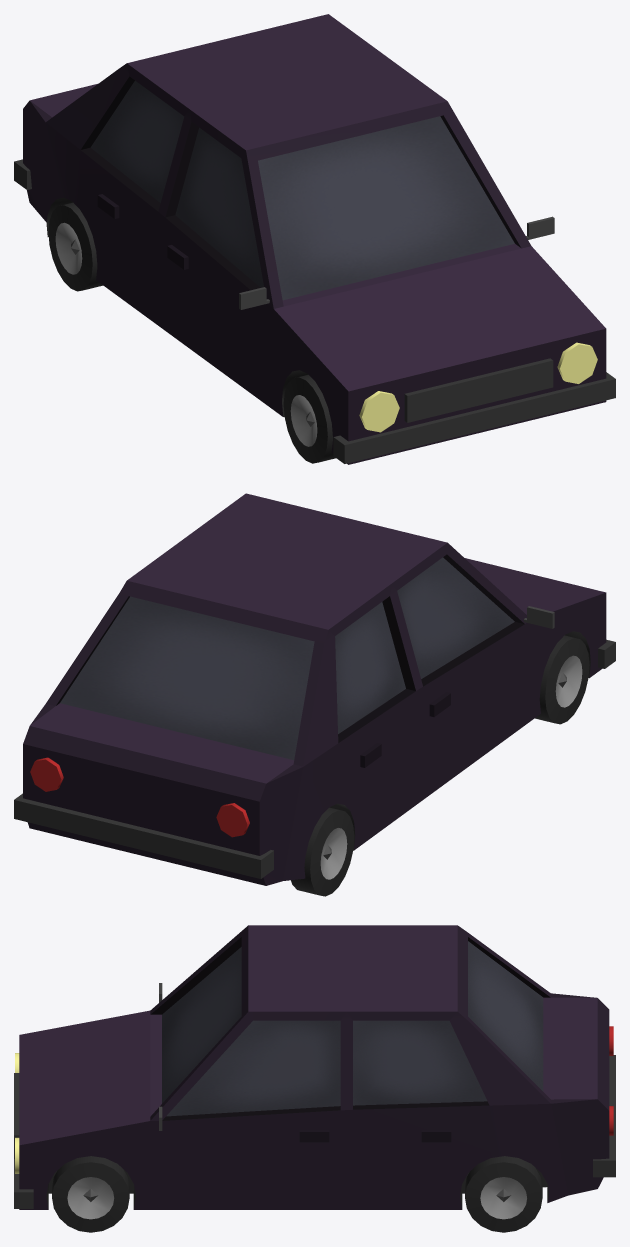
Rendered from Car_C5.fbx.
3 views of the same model, one above another, from view 1: azimuth 30°, elevation 25°; view 2: azimuth 150°, elevation 25°; view 3: azimuth 270°, elevation 25° (orthographic). The views are drawn at different scales.
Visible parts, largest first — view 1: Car3_Body, Car3_RF, Car3_RR; view 2: Car3_Body, Car3_RR, Car3_RF; view 3: Car3_Body, Car3_LF, Car3_LR.
Boxes of the visible parts, x1=… form: Car3_Body: x1=14, y1=14, x2=615, y2=464; Car3_RF: x1=283, y1=374, x2=335, y2=463; Car3_RR: x1=48, y1=202, x2=102, y2=291; Car3_Body: x1=14, y1=493, x2=615, y2=885; Car3_RR: x1=291, y1=807, x2=354, y2=896; Car3_RF: x1=535, y1=635, x2=589, y2=724; Car3_Body: x1=14, y1=925, x2=615, y2=1209; Car3_LF: x1=52, y1=1156, x2=129, y2=1232; Car3_LR: x1=465, y1=1156, x2=542, y2=1232.
Size of the model in its own units: 191 by 138 by 362.
Materials: 1 (1 with a texture image).
